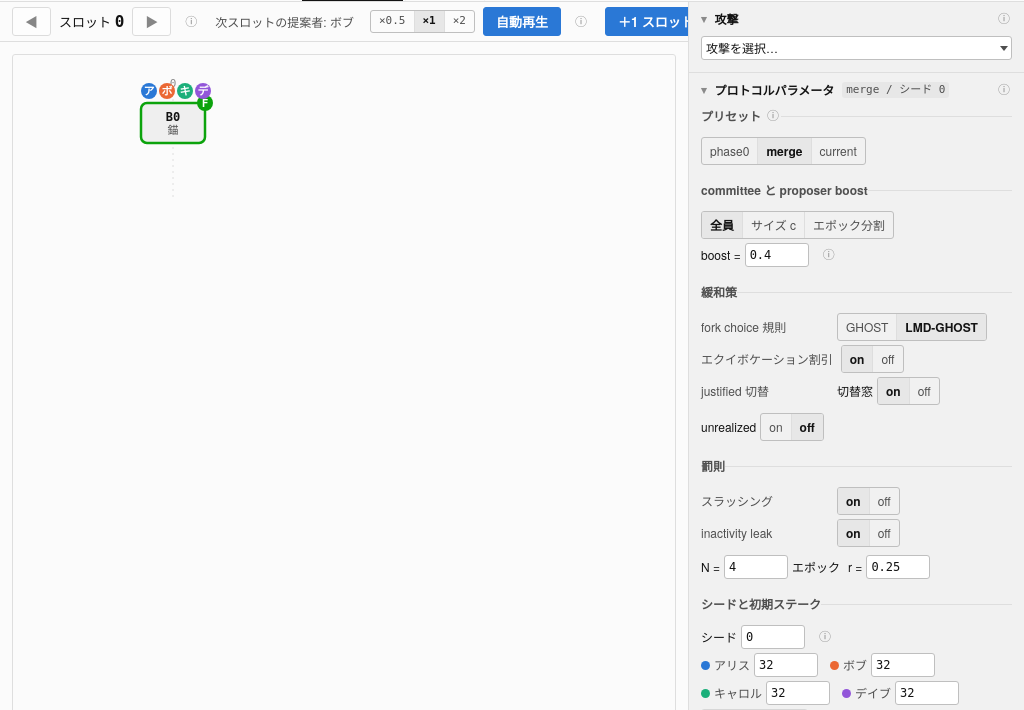
Test case: vote designation (投票先指定) › requires at least one component
Click the button "＋1 スロット進める" at (675, 22), box x1=605 y1=7 x2=746 y2=36
(page scrolled)
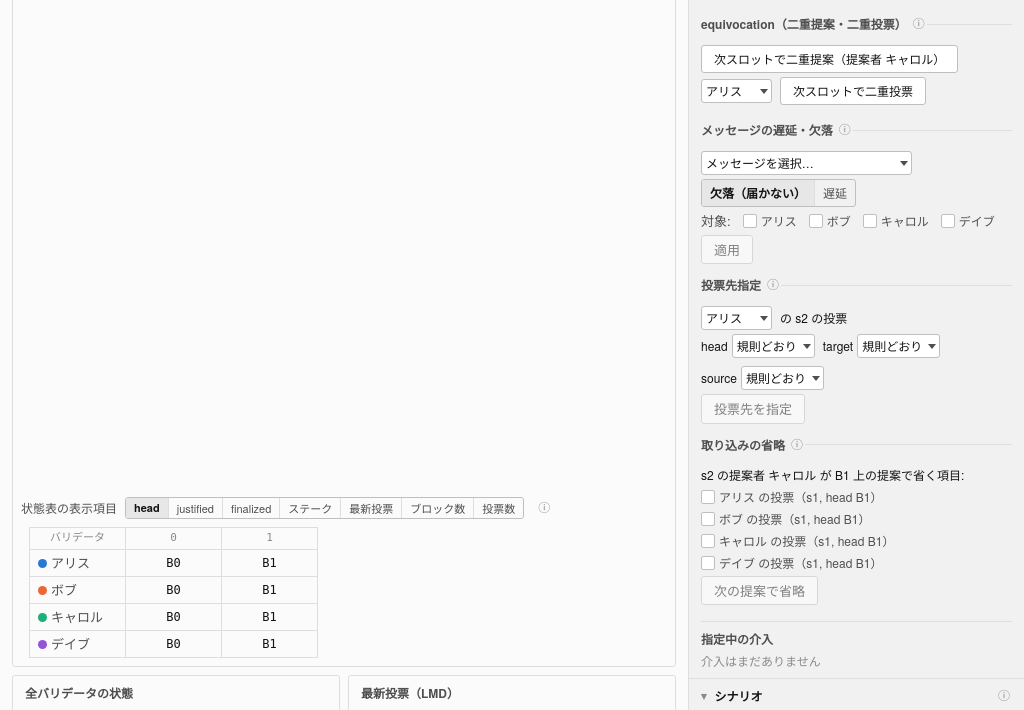
Expected: the button "投票先を指定" is disabled, x1=701 y1=394 x2=805 y2=424
Select "B0（s0）" in the dropdown labelled "target" at (899, 346), box x1=857 y1=334 x2=940 y2=358
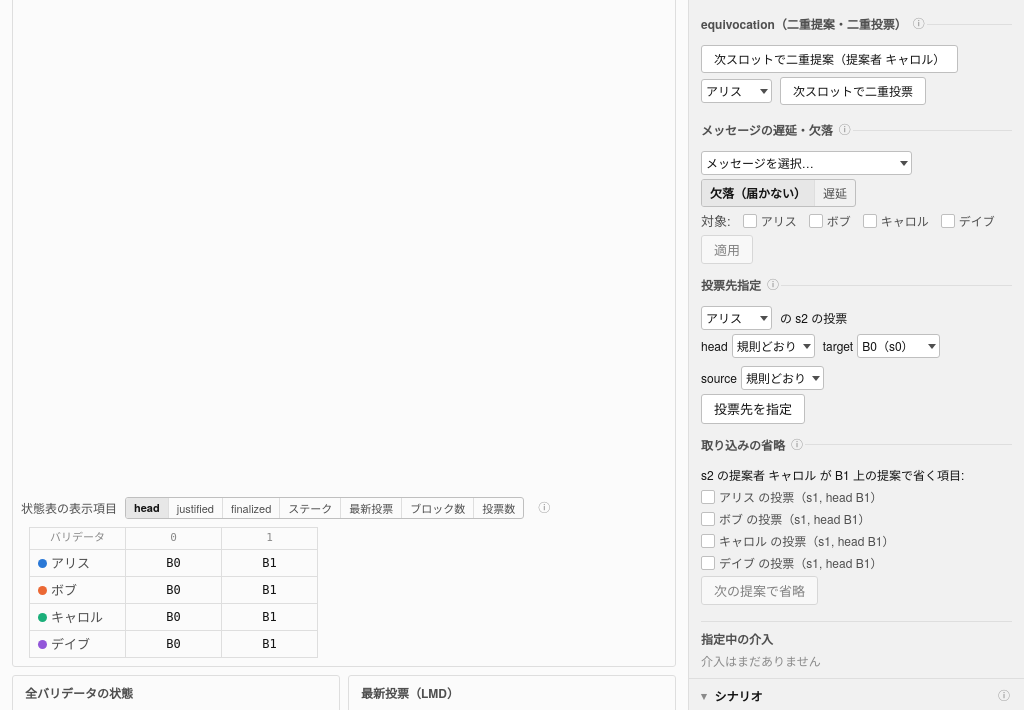
Result: the button "投票先を指定" is enabled at x1=701 y1=394 x2=805 y2=424
